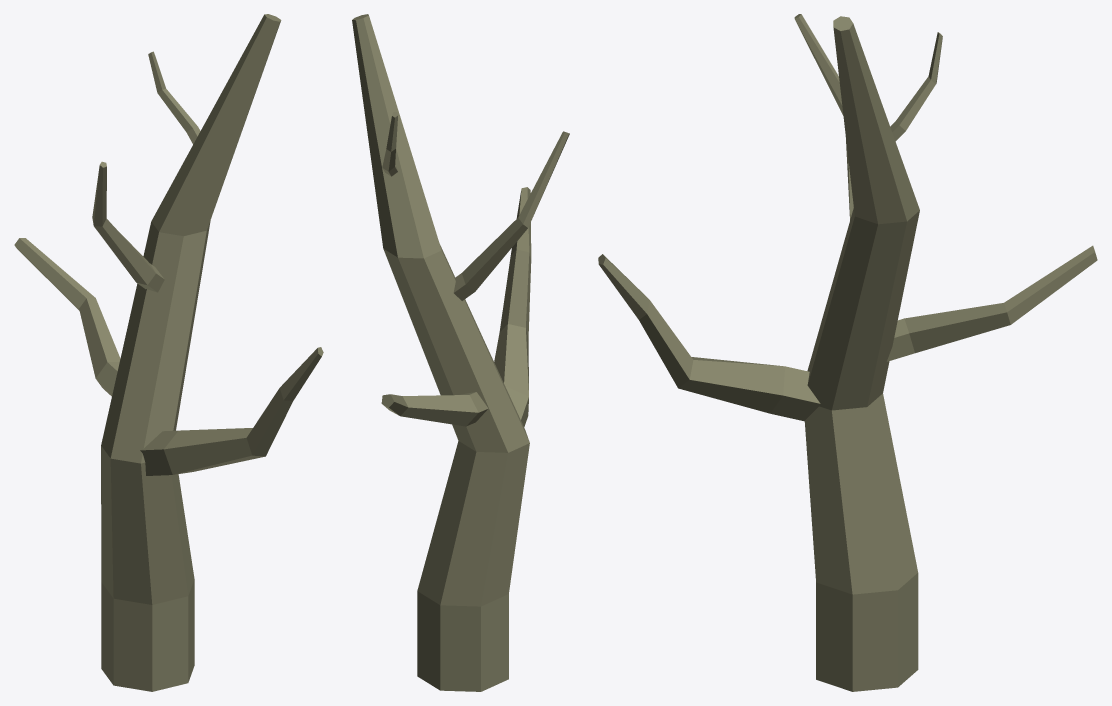
Rendered from lp_deadTree(Colour).fbx.
The picture shows the model from 3 angles, left to right: view 1: azimuth 30°, elevation 25°; view 2: azimuth 150°, elevation 25°; view 3: azimuth 270°, elevation 25°; orthographic projection. The views are drawn at different scales.
Visible parts, largest first — view 1: Trunk, Branch2, Branch1, Cylinder, Cylinder.001; view 2: Trunk, Branch2, Cylinder, Branch1, Cylinder.001; view 3: Trunk, Branch2, Branch1, Cylinder, Cylinder.001.
Boxes of the visible parts, x1,y1,x2,y2 form: Trunk: [101, 14, 281, 691]; Branch2: [140, 347, 323, 475]; Branch1: [14, 238, 120, 396]; Cylinder: [92, 161, 164, 292]; Cylinder.001: [148, 51, 200, 144]; Trunk: [352, 14, 529, 691]; Branch2: [494, 187, 531, 426]; Cylinder: [453, 131, 569, 300]; Branch1: [381, 392, 488, 426]; Cylinder.001: [382, 112, 397, 176]; Trunk: [804, 16, 919, 691]; Branch2: [598, 254, 820, 421]; Branch1: [887, 245, 1097, 361]; Cylinder: [794, 14, 853, 219]; Cylinder.001: [890, 32, 942, 141].
Size of the model in its own units: 278 by 843 by 535.
